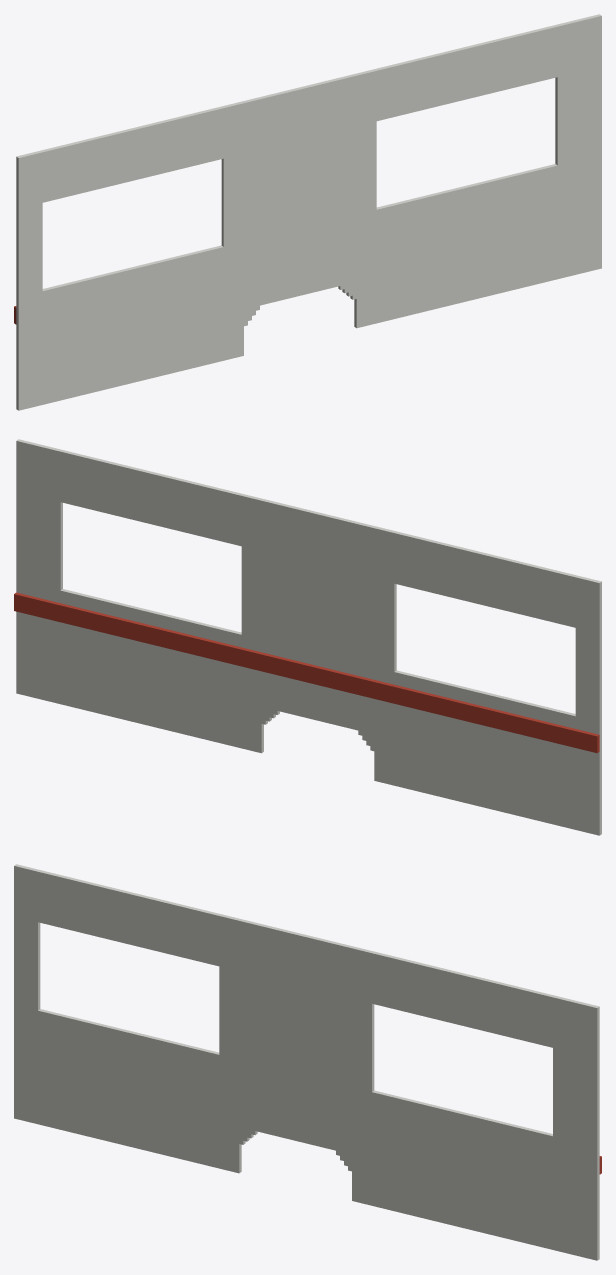
File: caravan_wall_plain.glb
3 renders of one model, top to bottom at view 1: azimuth 30°, elevation 25°; view 2: azimuth 150°, elevation 25°; view 3: azimuth 330°, elevation 25°, orthographic.
Parts seen in each view (by area): view 1: body:compound; view 2: body:compound; view 3: body:compound.
Part boxes in pixels (<box>): body:compound: <box>14,14,601,410</box>; body:compound: <box>14,439,601,835</box>; body:compound: <box>14,864,601,1260</box>.
Bounding box in the file's own units: 4.53 × 1.88 × 0.0625.
